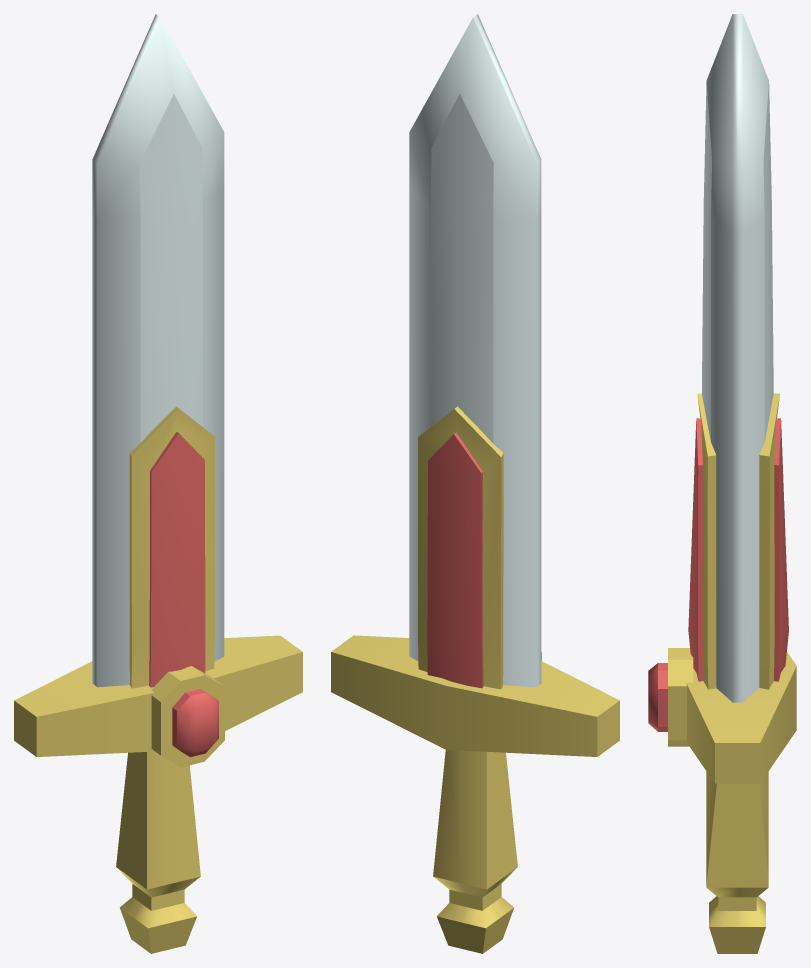
The model's file is sword.fbx.
3 views of the same model, side by side, from view 1: azimuth 30°, elevation 25°; view 2: azimuth 150°, elevation 25°; view 3: azimuth 270°, elevation 25° (orthographic).
Visible parts, largest first — view 1: Sword; view 2: Sword; view 3: Sword.
Boxes of the visible parts, box(x1,y1,x2,y2) form: Sword: box(14, 14, 302, 953); Sword: box(331, 14, 619, 953); Sword: box(648, 14, 796, 953).
Bounding box in the file's own units: 1.19 × 3.94 × 0.5701.
